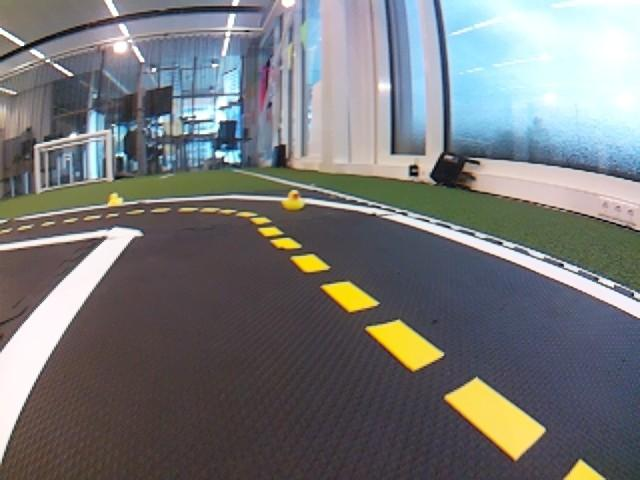Duckies: (280, 190, 305, 210), (106, 192, 125, 206)
